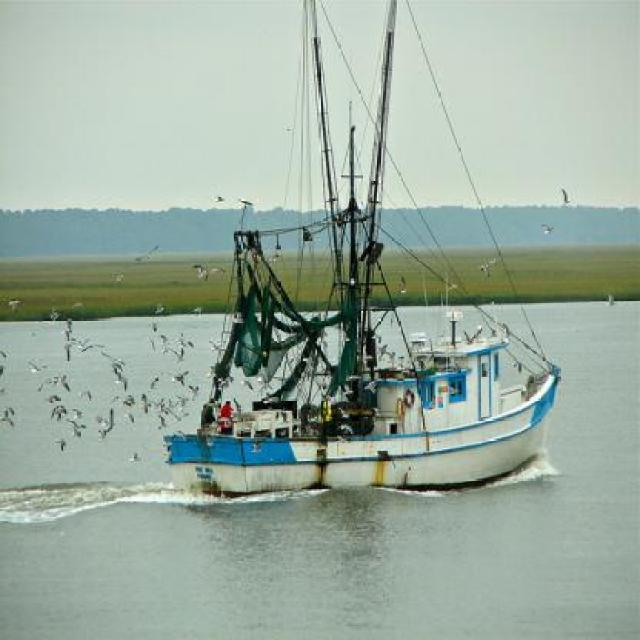ship: (151, 0, 560, 512)
